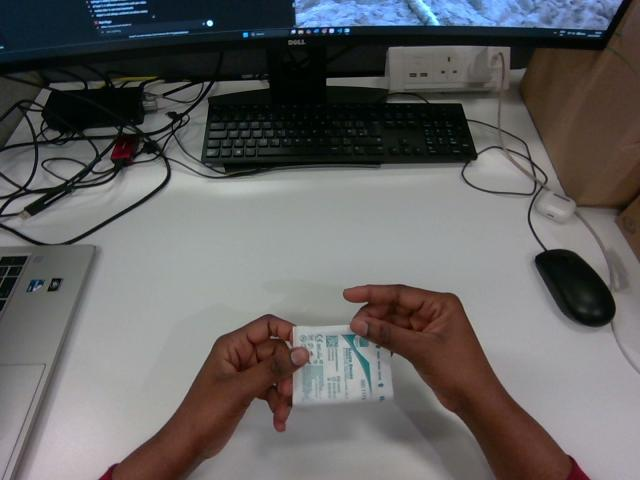gauze: (293, 325, 392, 405)
